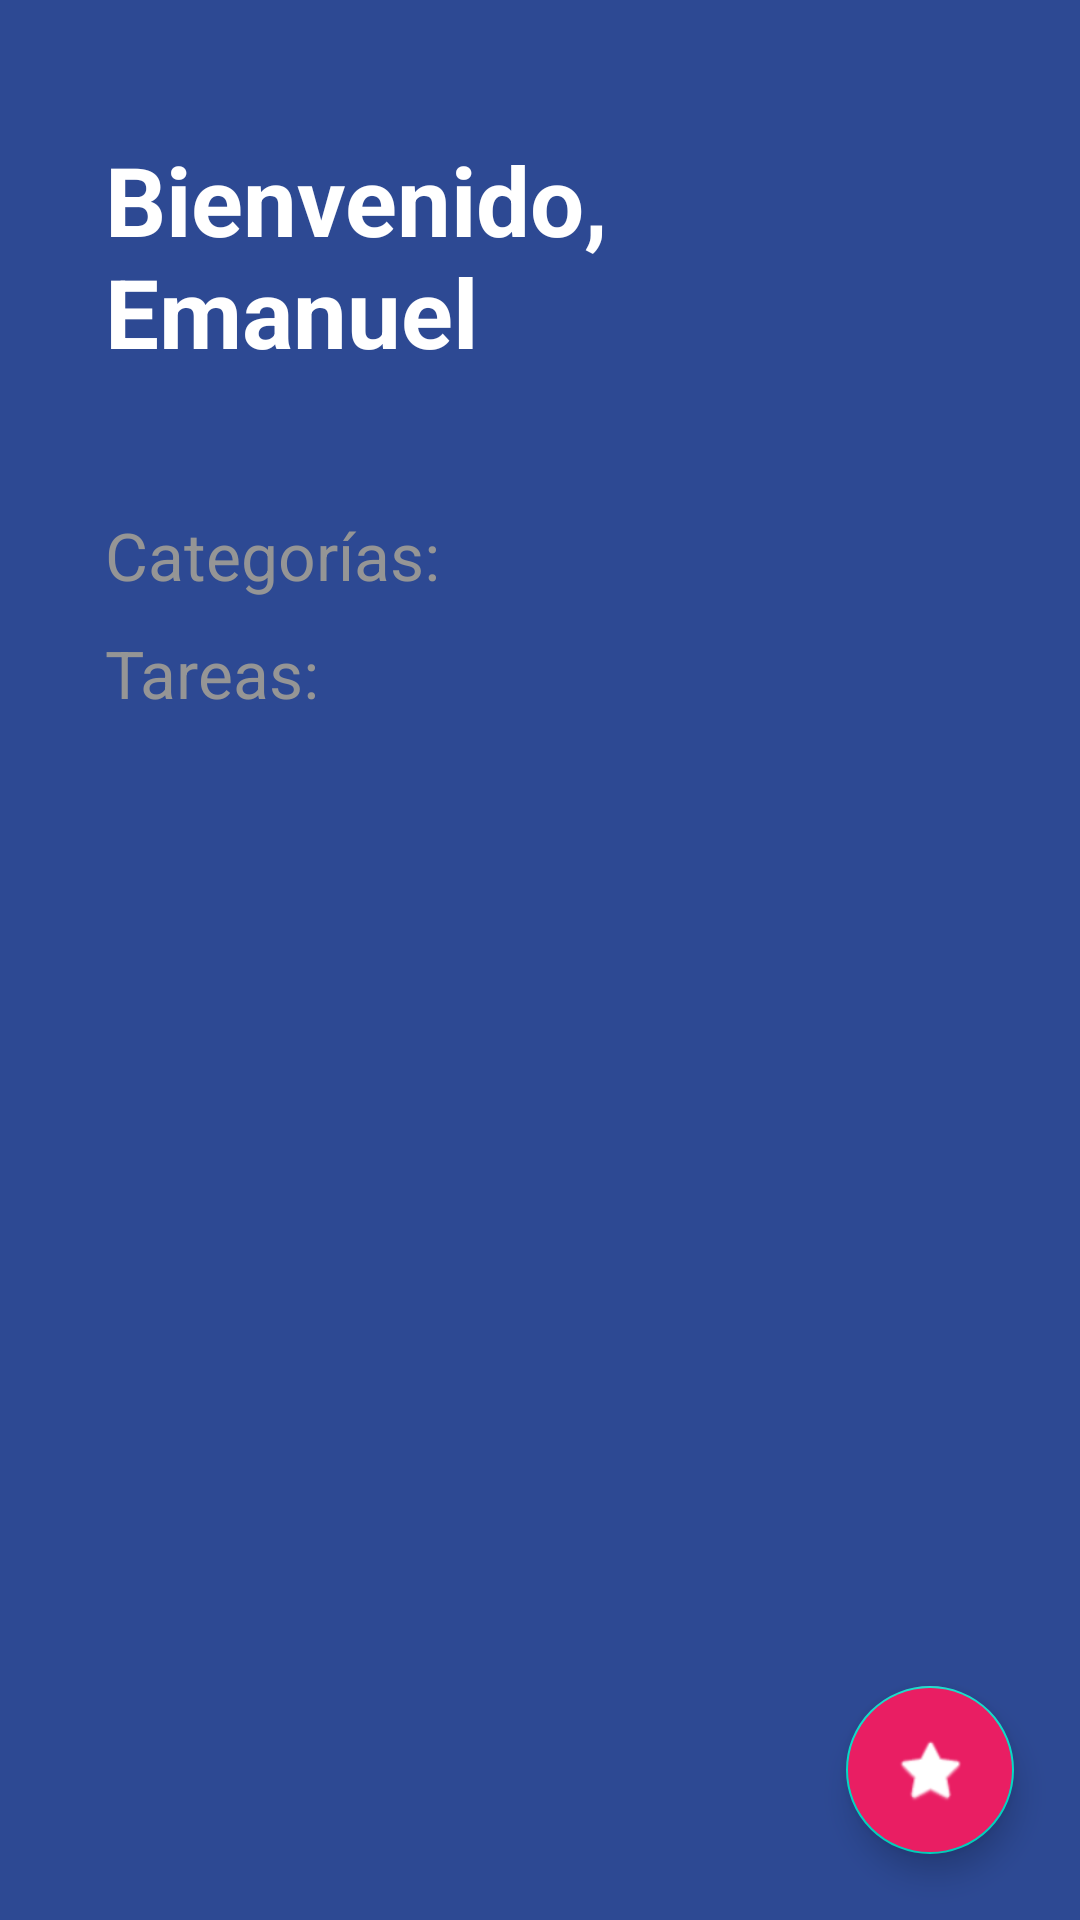

Named icons in this screenshot (1080 x 1920) and their bounding boxes, (x1, y1, x2, y2):
star: (846, 1686, 1014, 1854)
